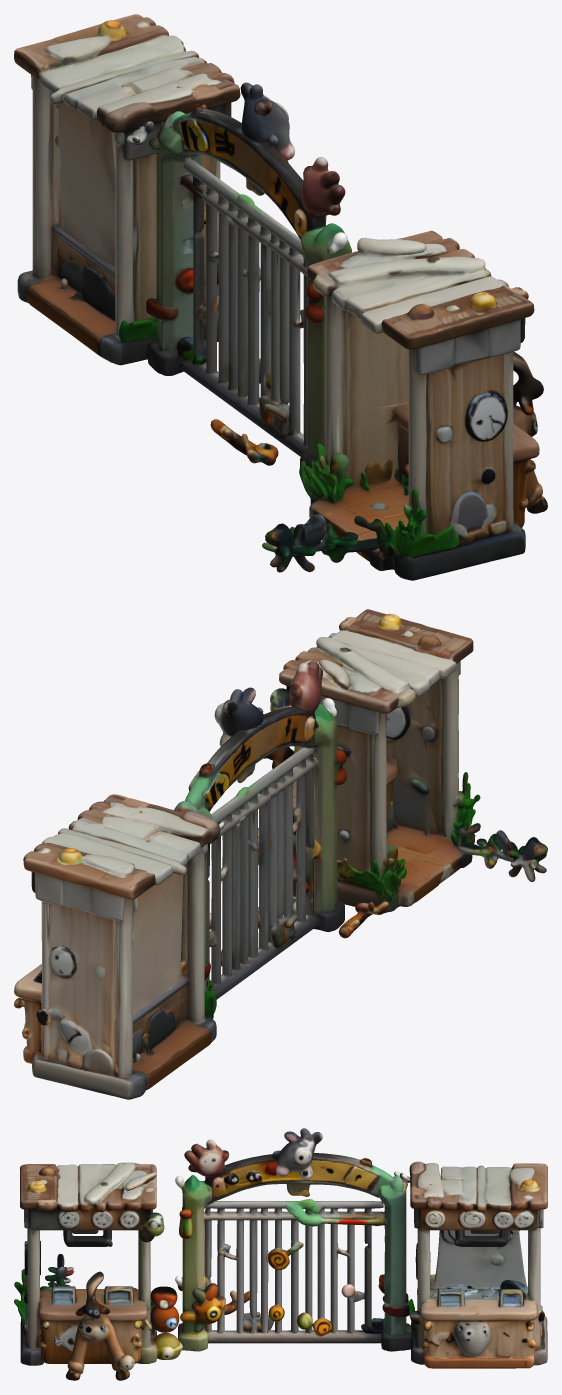
The model's file is building-zoo-entrance.glb.
3 renders of one model, top to bottom at view 1: azimuth 30°, elevation 25°; view 2: azimuth 150°, elevation 25°; view 3: azimuth 270°, elevation 25°, orthographic. The views are drawn at different scales.
Visible parts, largest first — view 1: tripo_node_19302a98-618a-4eee-89dc-bcb3538ec010; view 2: tripo_node_19302a98-618a-4eee-89dc-bcb3538ec010; view 3: tripo_node_19302a98-618a-4eee-89dc-bcb3538ec010.
Part boxes in pixels (x1,y1,x2,y2): tripo_node_19302a98-618a-4eee-89dc-bcb3538ec010: (14, 14, 547, 580); tripo_node_19302a98-618a-4eee-89dc-bcb3538ec010: (14, 609, 547, 1099); tripo_node_19302a98-618a-4eee-89dc-bcb3538ec010: (14, 1128, 547, 1380).
Size of the model in its own units: 7.71 by 8 by 17.65.
1 material, 1 textured.
